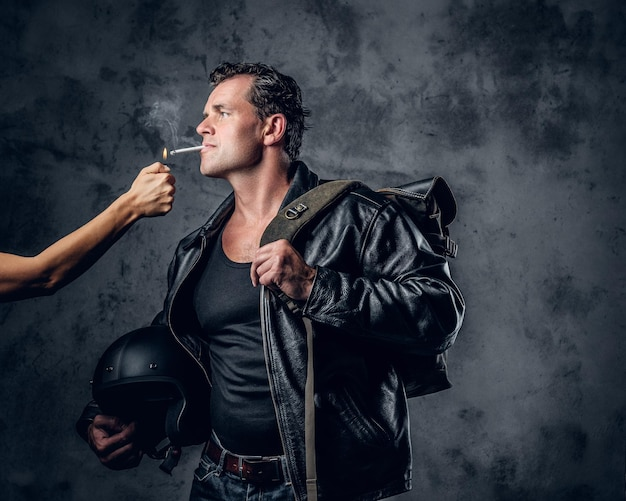cigarette: (172, 142, 205, 156)
